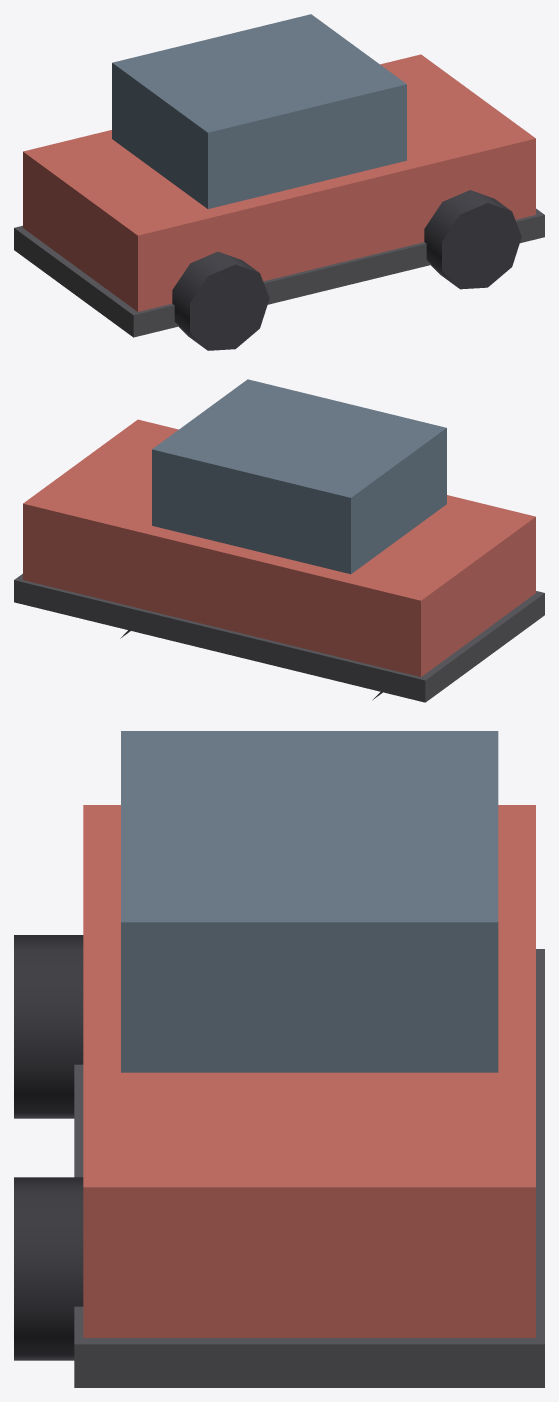
File: car.glb
The picture shows the model from 3 angles, top to bottom: view 1: azimuth 30°, elevation 25°; view 2: azimuth 150°, elevation 25°; view 3: azimuth 270°, elevation 25°; orthographic projection. The views are drawn at different scales.
Visible parts, largest first — view 1: car; view 2: car; view 3: car.
Boxes of the visible parts, x1=… form: car: x1=14, y1=14, x2=544, y2=350; car: x1=14, y1=379, x2=544, y2=702; car: x1=14, y1=731, x2=544, y2=1387.
Bounding box in the file's own units: 31 × 14.15 × 17.6.
